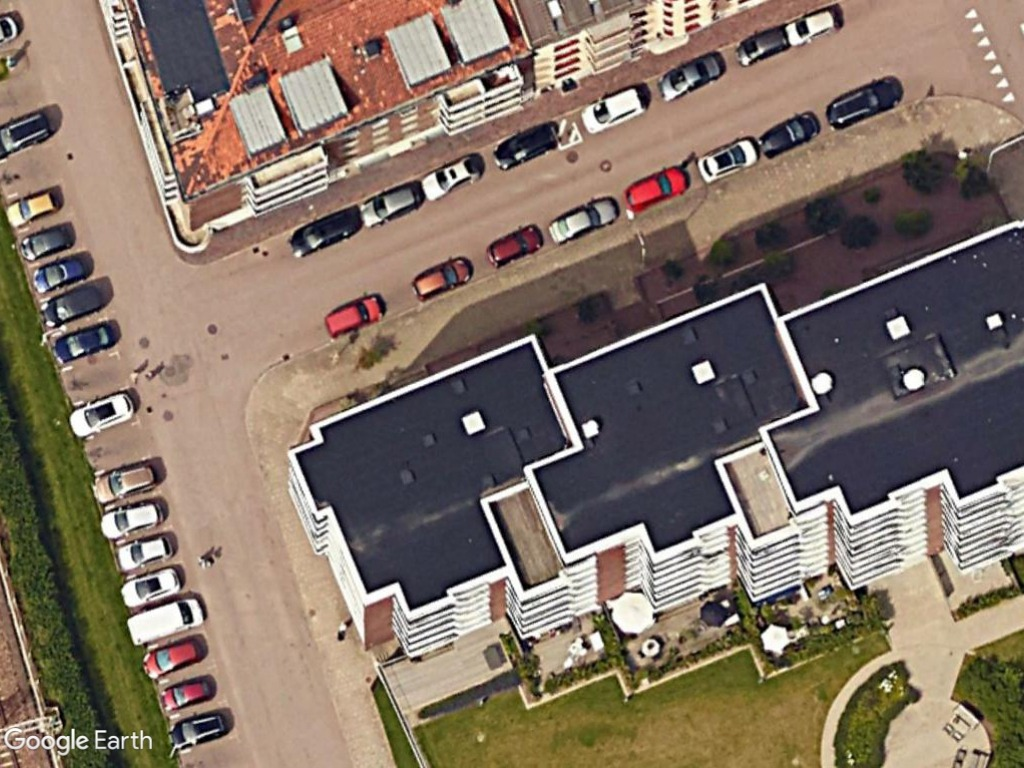car: (823, 72, 904, 133), (616, 161, 694, 218), (652, 49, 727, 108), (65, 386, 141, 442), (543, 192, 622, 245), (87, 455, 165, 506), (93, 495, 173, 543), (288, 205, 360, 258), (320, 286, 388, 342), (493, 119, 563, 173), (417, 149, 486, 203), (138, 631, 211, 682), (49, 316, 119, 368), (114, 562, 188, 611), (579, 81, 648, 133), (757, 110, 824, 163), (167, 705, 237, 755), (40, 278, 106, 330), (410, 251, 477, 302), (156, 667, 224, 717), (354, 181, 424, 229), (696, 135, 760, 187), (112, 528, 181, 575), (479, 220, 545, 269), (29, 248, 93, 293), (17, 217, 80, 262), (2, 186, 63, 231), (781, 5, 843, 49), (732, 24, 789, 65)
van: (123, 592, 211, 648)
